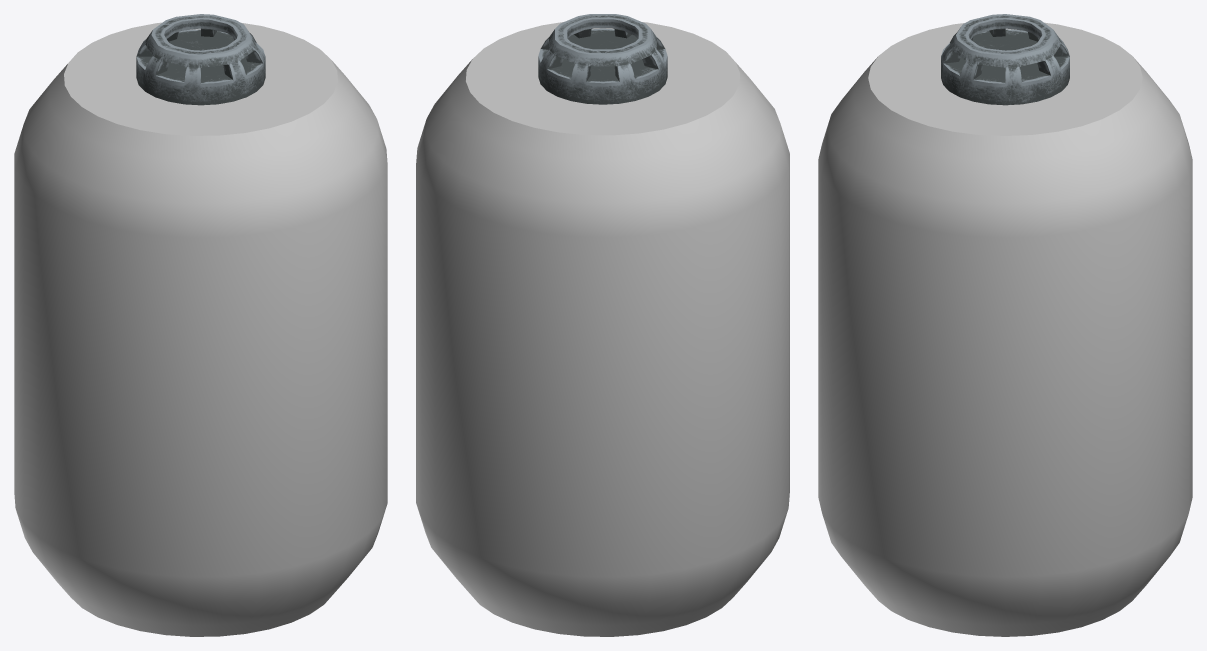
The model's file is SM_FireBottle.fbx.
3 views of the same model, side by side, from view 1: azimuth 30°, elevation 25°; view 2: azimuth 150°, elevation 25°; view 3: azimuth 270°, elevation 25° (orthographic).
Visible parts, largest first — view 1: lattern1.001, lattern head.001; view 2: lattern1.001, lattern head.001; view 3: lattern1.001, lattern head.001.
Part boxes in pixels (left/top/right/bottom): lattern1.001: left=14, top=22, right=387, bottom=636; lattern head.001: left=136, top=14, right=265, bottom=105; lattern1.001: left=416, top=21, right=789, bottom=636; lattern head.001: left=538, top=14, right=667, bottom=104; lattern1.001: left=818, top=22, right=1192, bottom=636; lattern head.001: left=941, top=14, right=1069, bottom=105.
Bounding box in the file's own units: 22.59 × 36.25 × 22.59.
